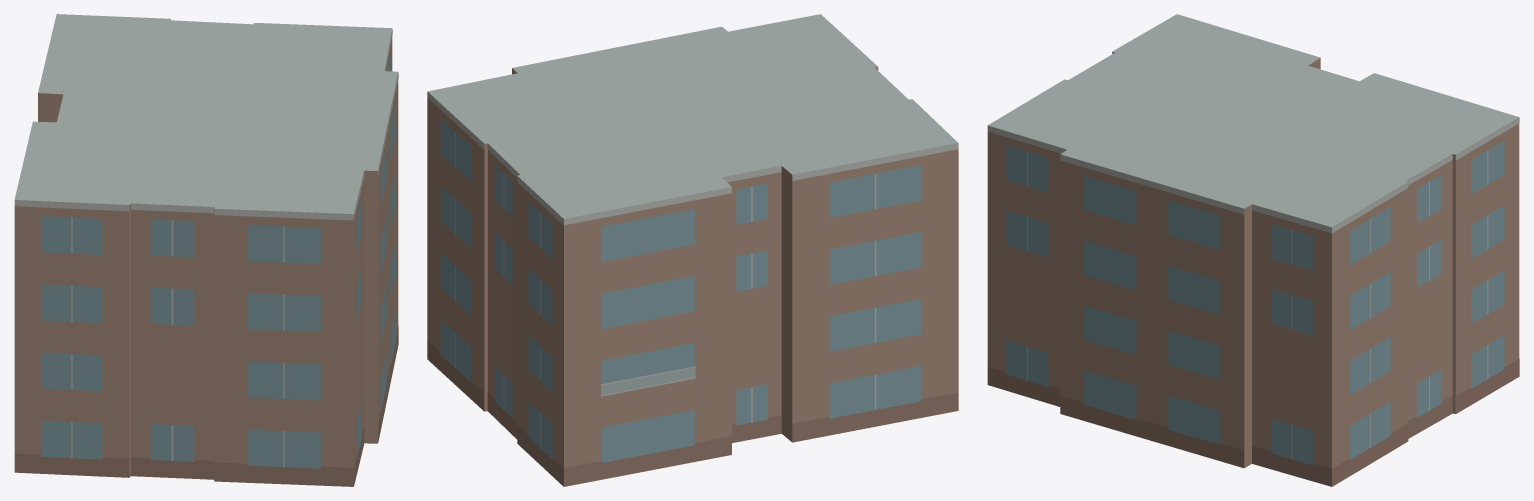
File: survey-upis-32859717.glb
3 views of the same model, side by side, from view 1: azimuth 30°, elevation 25°; view 2: azimuth 150°, elevation 25°; view 3: azimuth 270°, elevation 25° (orthographic). The views are drawn at different scales.
Parts seen in each view (by area): view 1: survey-upis-32859717.tmp; view 2: survey-upis-32859717.tmp; view 3: survey-upis-32859717.tmp.
Boxes of the visible parts, <box> form: survey-upis-32859717.tmp: <box>14,14,398,486</box>; survey-upis-32859717.tmp: <box>427,14,958,486</box>; survey-upis-32859717.tmp: <box>987,14,1519,486</box>.
Bounding box in the file's own units: 18.52 × 10.5 × 19.51.
